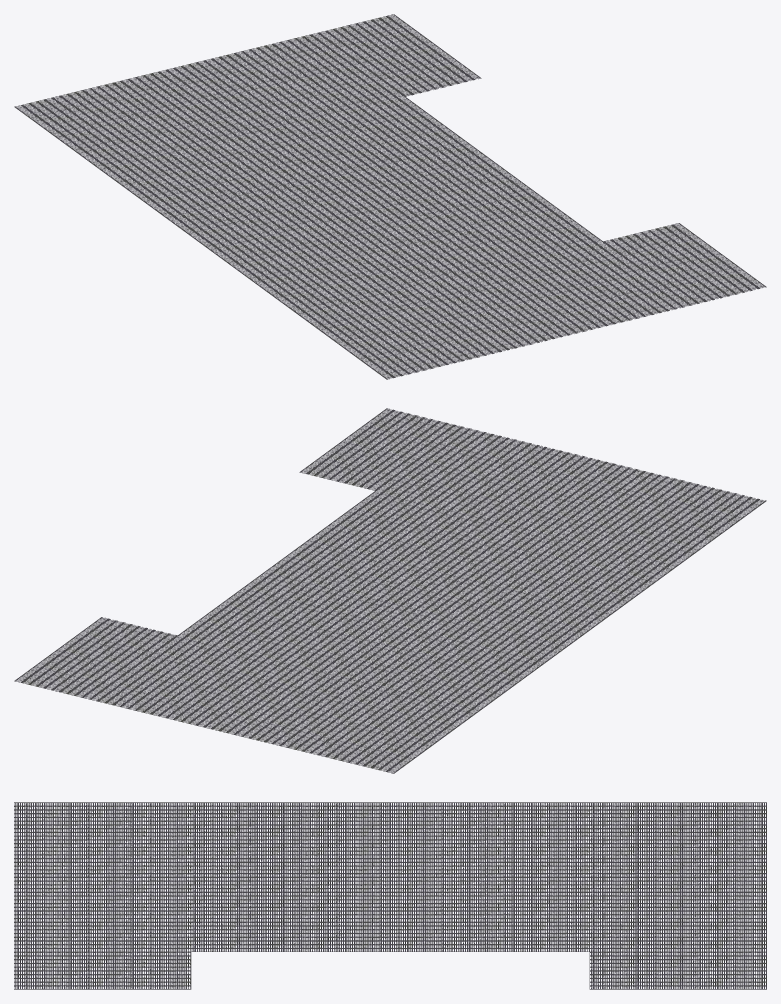
The model's file is mdlMiddleFloor.fbx.
3 renders of one model, top to bottom at view 1: azimuth 30°, elevation 25°; view 2: azimuth 150°, elevation 25°; view 3: azimuth 270°, elevation 25°, orthographic.
Parts seen in each view (by area): view 1: Grid; view 2: Grid; view 3: Grid.
Boxes of the visible parts, box(x1,y1,x2,y2) form: Grid: box(14, 14, 766, 379); Grid: box(14, 408, 766, 773); Grid: box(14, 802, 766, 989).
Size of the model in its own units: 50.17 by 1.39e-05 by 85.28.
